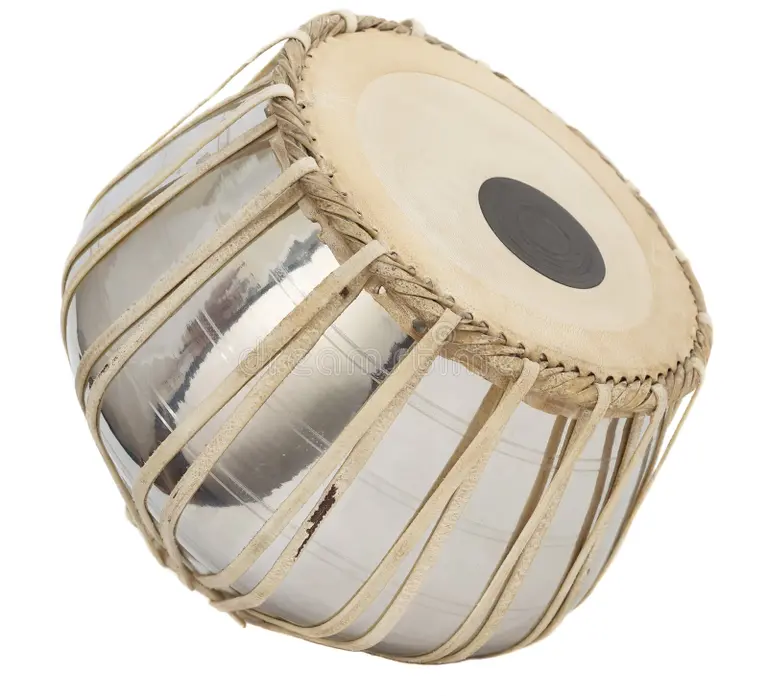tabla: (46, 15, 714, 489)
